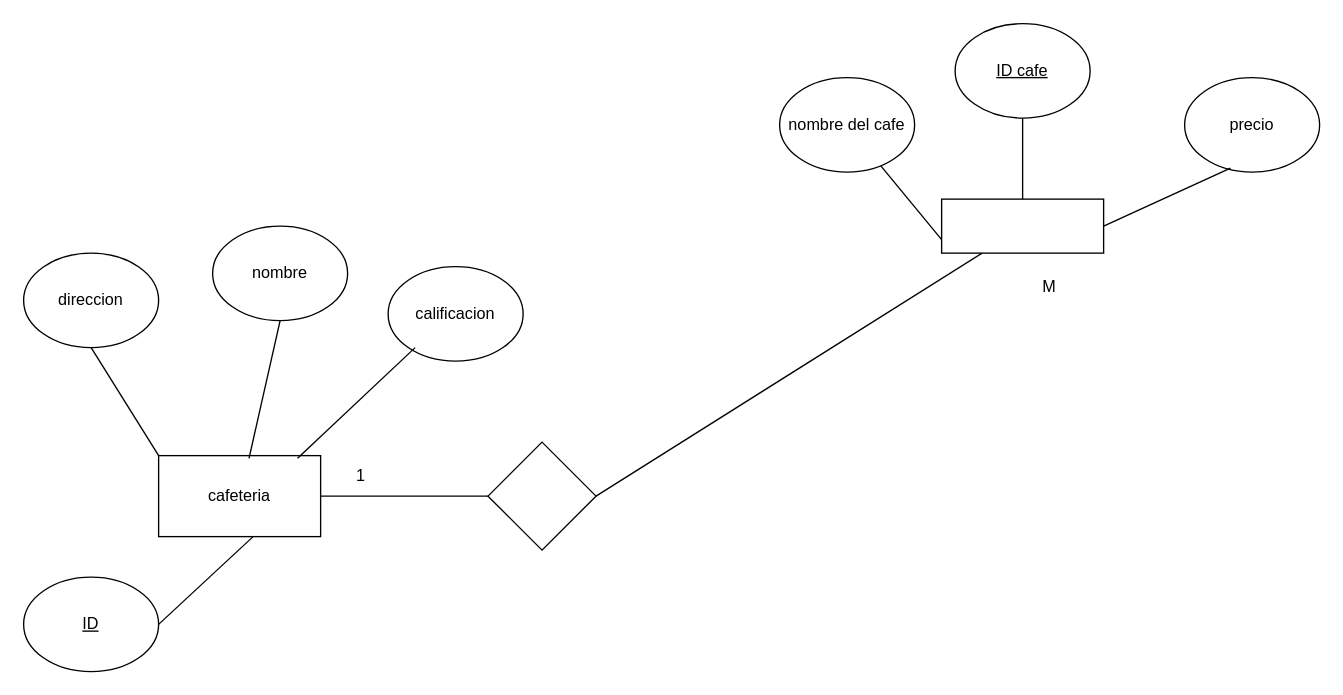
The diagram is 1343 pixels wide and 695 high, and some of its shapes have lost their labels. Each missing label, with the centre of its shape:
"cafe" belongs at point 1022,225.
"tiene" belongs at point 541,495.
